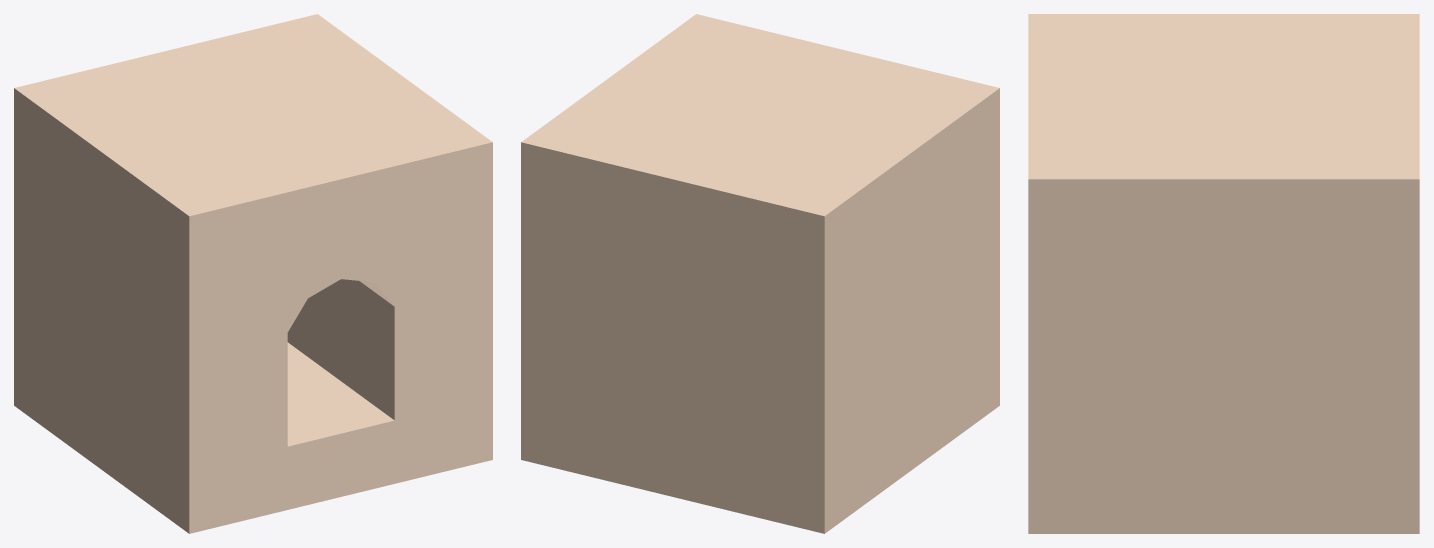
The model's file is Abstract_Modular_Doorway_1.0_Beige_01.fbx.
3 views of the same model, side by side, from view 1: azimuth 30°, elevation 25°; view 2: azimuth 150°, elevation 25°; view 3: azimuth 270°, elevation 25° (orthographic). The views are drawn at different scales.
Parts seen in each view (by area): view 1: Abstract_Modular_Doorway_1.0_Beige_01; view 2: Abstract_Modular_Doorway_1.0_Beige_01; view 3: Abstract_Modular_Doorway_1.0_Beige_01.
Boxes of the visible parts, bbox=[...] form: Abstract_Modular_Doorway_1.0_Beige_01: bbox=[14, 14, 492, 533]; Abstract_Modular_Doorway_1.0_Beige_01: bbox=[521, 14, 999, 533]; Abstract_Modular_Doorway_1.0_Beige_01: bbox=[1028, 14, 1419, 533].
Size of the model in its own units: 3000 by 3000 by 3000.
